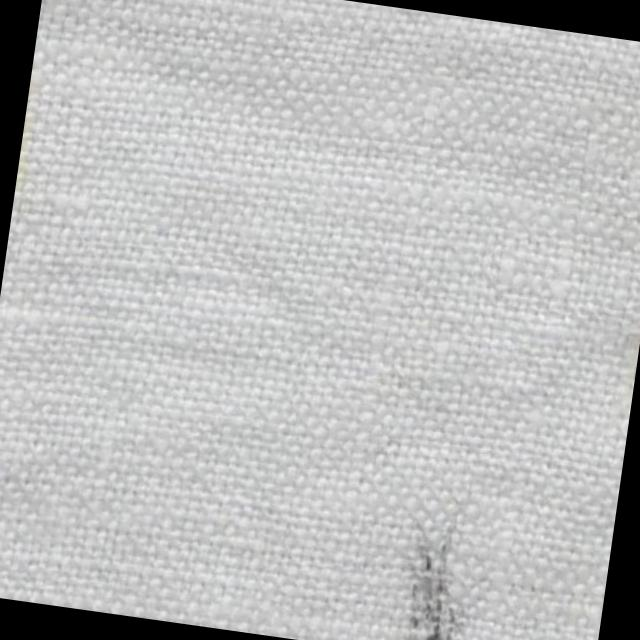Stain: (390, 508, 492, 640)
